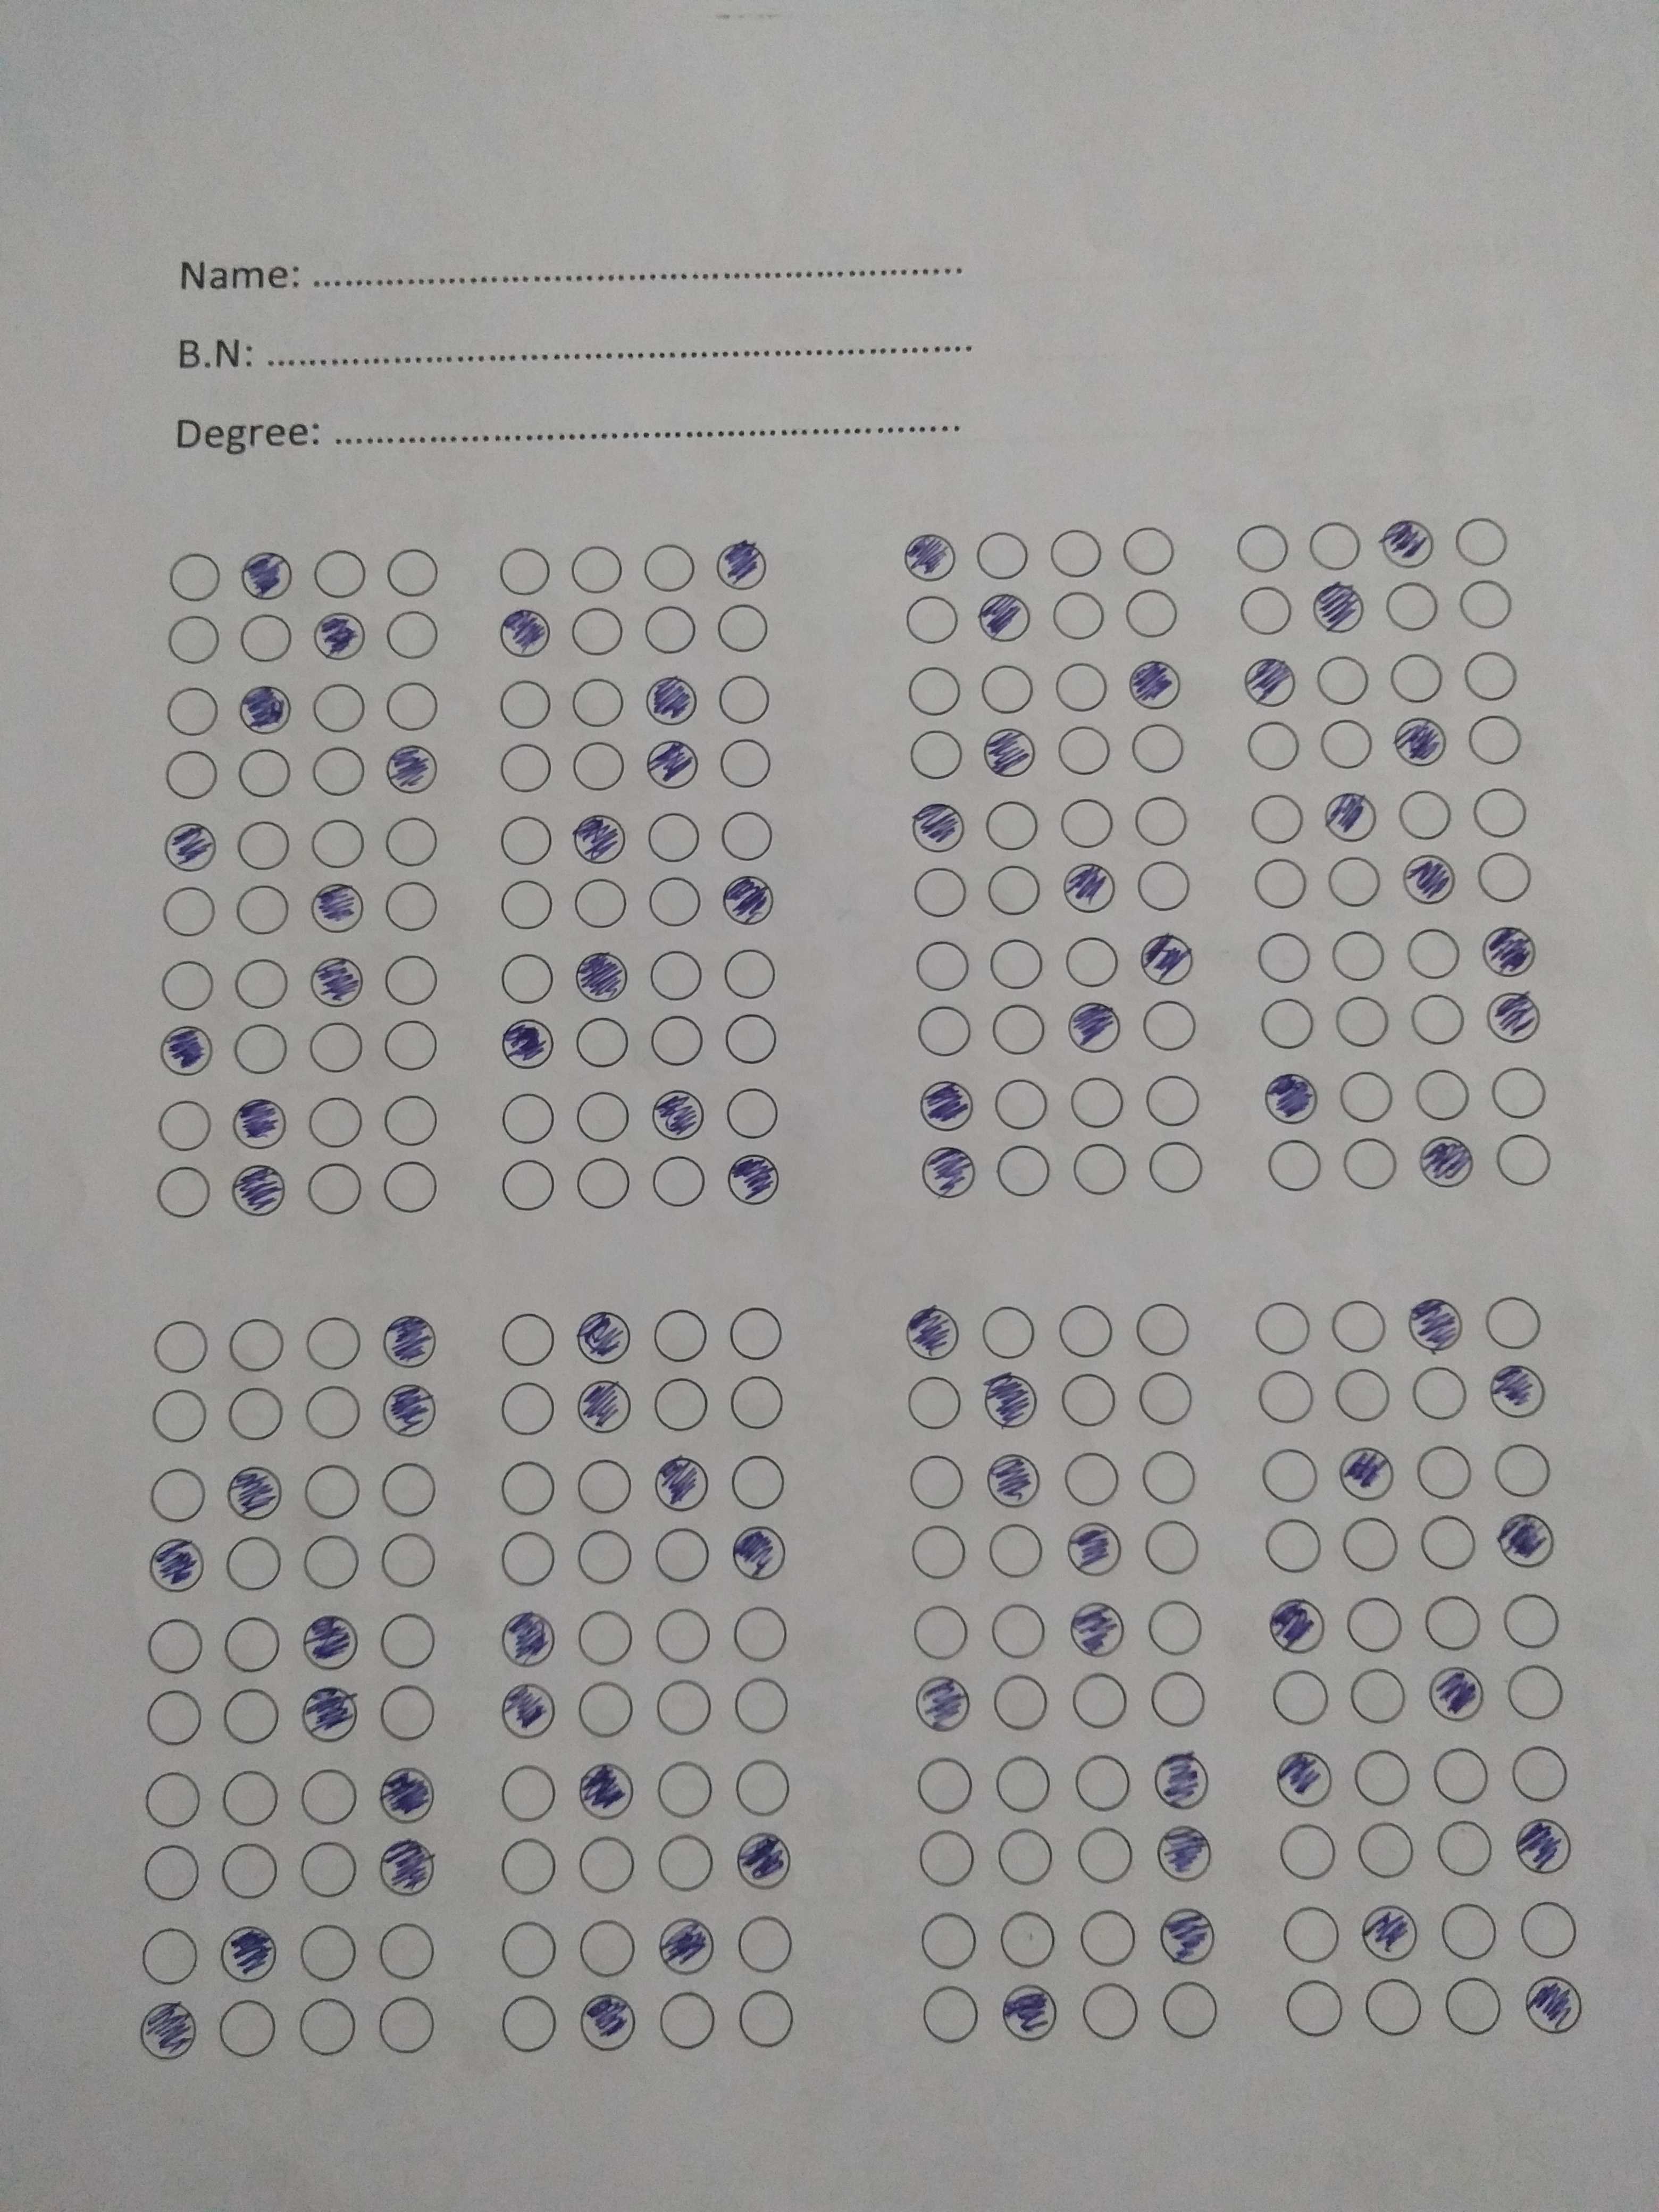not-c: (160, 547, 230, 604), (1159, 1980, 1222, 2040), (296, 1996, 359, 2055), (298, 1838, 361, 1897), (141, 1841, 204, 1900), (300, 1768, 362, 1827), (727, 1454, 789, 1514), (650, 1606, 713, 1665), (570, 1456, 633, 1515), (652, 1306, 714, 1366), (498, 1838, 561, 1897), (732, 1757, 795, 1817), (652, 1761, 714, 1820), (497, 1764, 559, 1824), (573, 1681, 636, 1740), (976, 1303, 1039, 1362), (732, 1989, 795, 2048), (498, 1991, 561, 2050), (575, 1919, 638, 1979), (500, 1923, 563, 1982), (1138, 1447, 1201, 1507), (1060, 1447, 1122, 1507), (915, 1829, 978, 1888), (990, 1754, 1053, 1813), (988, 1672, 1051, 1731), (376, 1994, 437, 2054), (376, 1921, 437, 1980), (732, 1676, 793, 1735), (653, 1679, 714, 1738), (655, 1991, 716, 2050), (734, 1914, 795, 1973), (986, 1522, 1047, 1581), (908, 1451, 969, 1510), (1073, 1825, 1134, 1885), (993, 1825, 1054, 1885), (1073, 1752, 1134, 1811), (495, 1312, 558, 1369), (216, 2000, 279, 2057), (296, 1925, 359, 1982), (139, 1771, 202, 1829), (376, 1683, 439, 1740), (727, 1606, 789, 1663), (497, 1458, 559, 1515), (725, 1372, 788, 1430), (650, 1374, 713, 1432), (497, 1379, 559, 1437), (723, 1305, 786, 1362), (573, 1836, 636, 1893), (653, 1836, 716, 1893), (1140, 1517, 1202, 1575), (986, 1602, 1049, 1660), (908, 1522, 971, 1580), (1056, 1371, 1119, 1428), (903, 1374, 965, 1432), (1131, 1298, 1194, 1355), (1054, 1301, 1117, 1359), (995, 1911, 1058, 1968), (911, 1757, 974, 1815), (1070, 1672, 1133, 1730), (1143, 1601, 1206, 1658), (139, 1928, 200, 1986), (221, 1843, 282, 1900), (218, 1770, 279, 1827), (577, 1609, 638, 1667), (650, 1526, 711, 1583), (575, 1526, 636, 1583), (498, 1531, 559, 1588), (910, 1602, 971, 1660), (1134, 1367, 1195, 1425), (918, 1911, 979, 1968), (1148, 1670, 1209, 1728), (1082, 1982, 1143, 2040), (920, 1984, 981, 2041), (1075, 1911, 1136, 1968), (380, 545, 446, 597), (162, 611, 223, 667), (378, 878, 439, 934), (230, 883, 291, 939), (159, 881, 220, 937), (382, 813, 443, 869), (305, 819, 366, 874), (232, 817, 293, 873), (307, 744, 368, 799), (162, 745, 223, 801), (160, 683, 221, 738), (382, 606, 443, 662), (493, 545, 554, 601), (305, 1160, 366, 1216), (378, 1092, 439, 1148), (305, 1094, 366, 1150), (565, 676, 626, 732), (711, 599, 772, 655), (565, 606, 626, 662), (720, 1010, 781, 1066), (647, 1014, 708, 1069), (645, 949, 706, 1005), (497, 949, 558, 1005), (647, 1155, 708, 1211), (223, 1618, 284, 1674), (223, 1534, 284, 1590), (148, 1467, 209, 1522), (303, 1385, 364, 1440), (225, 1386, 286, 1442), (225, 1317, 286, 1372), (1054, 723, 1115, 779), (1127, 725, 1188, 780), (1053, 658, 1114, 714), (979, 662, 1040, 718), (1394, 787, 1455, 843), (1243, 716, 1303, 772), (1319, 718, 1380, 773), (1464, 650, 1525, 705), (1314, 651, 1375, 707), (1378, 577, 1439, 632), (1450, 510, 1511, 566), (910, 864, 971, 920), (979, 798, 1040, 853), (1127, 792, 1188, 848), (1328, 927, 1389, 982), (1335, 1069, 1396, 1125), (1488, 1066, 1549, 1122), (1493, 1130, 1554, 1186), (986, 1001, 1047, 1057), (1061, 932, 1122, 988), (1328, 1299, 1389, 1355), (1413, 1444, 1474, 1500), (1492, 1442, 1553, 1498), (1419, 1515, 1480, 1571), (1347, 1667, 1408, 1723), (1431, 1749, 1492, 1804), (1277, 1824, 1338, 1879), (1356, 1824, 1417, 1879), (305, 545, 368, 599), (382, 953, 441, 1008), (157, 958, 216, 1014), (378, 679, 437, 735), (308, 679, 368, 735), (235, 610, 295, 665), (572, 876, 631, 932), (568, 543, 627, 599), (305, 1019, 364, 1075), (230, 1022, 289, 1078), (497, 876, 556, 932), (495, 813, 554, 869), (713, 735, 772, 791), (497, 738, 556, 794), (493, 678, 552, 733), (641, 540, 701, 596), (572, 1157, 631, 1212), (497, 1157, 556, 1212), (572, 1089, 631, 1144), (500, 1090, 559, 1146), (645, 873, 704, 928), (145, 1691, 204, 1747), (378, 1613, 437, 1669), (378, 1533, 437, 1588), (303, 1534, 362, 1590), (378, 1463, 437, 1519), (300, 1465, 359, 1521), (150, 1388, 209, 1444), (152, 1318, 211, 1374), (904, 662, 964, 718), (1121, 519, 1180, 575), (1046, 524, 1105, 580), (1246, 789, 1305, 845), (1467, 711, 1527, 766), (1389, 650, 1448, 705), (1236, 585, 1295, 641), (1455, 577, 1514, 632), (1303, 517, 1363, 573), (1232, 521, 1291, 577), (908, 726, 967, 782), (1471, 784, 1530, 840), (1474, 850, 1534, 906), (1253, 855, 1312, 911), (1253, 930, 1312, 986), (1403, 927, 1462, 982), (1408, 991, 1467, 1047), (1335, 995, 1394, 1050), (1258, 998, 1317, 1054), (1342, 1136, 1401, 1191), (1265, 1137, 1324, 1193), (1072, 1141, 1131, 1197), (995, 1143, 1054, 1198), (1066, 1073, 1126, 1129), (1138, 996, 1197, 1052), (917, 1003, 976, 1059), (913, 939, 972, 995), (986, 941, 1046, 996), (1253, 1299, 1312, 1355), (1485, 1296, 1544, 1352), (1333, 1369, 1392, 1425), (1256, 1369, 1316, 1425), (1263, 1517, 1323, 1573), (1422, 1594, 1481, 1649), (1345, 1597, 1405, 1653), (1502, 1594, 1561, 1649), (1504, 1665, 1563, 1721), (1351, 1749, 1410, 1804), (1270, 1670, 1330, 1726), (1436, 1822, 1495, 1878), (1283, 1907, 1342, 1963), (1284, 1980, 1344, 2036), (1366, 1980, 1425, 2036), (1443, 1979, 1502, 2034), (235, 745, 296, 799), (382, 1160, 443, 1214), (152, 1165, 213, 1219), (716, 812, 777, 866), (714, 671, 775, 725), (640, 603, 701, 657), (721, 1087, 782, 1141), (568, 1014, 629, 1068), (716, 948, 777, 1001), (901, 594, 962, 648), (1124, 585, 1185, 639), (1047, 587, 1108, 641), (981, 860, 1042, 914), (1258, 1449, 1319, 1503), (1342, 1517, 1403, 1571), (1262, 1517, 1323, 1571), (1509, 1747, 1570, 1801), (1439, 1904, 1500, 1958), (230, 958, 289, 1012), (157, 1097, 216, 1151), (380, 1017, 439, 1071), (643, 808, 702, 862), (570, 740, 629, 794), (220, 1689, 279, 1743), (145, 1620, 204, 1674), (303, 1317, 362, 1371), (972, 528, 1032, 582), (1133, 859, 1192, 913), (1056, 796, 1115, 850), (1326, 855, 1385, 909), (1412, 1069, 1471, 1123), (1147, 1139, 1206, 1193), (992, 1078, 1051, 1132), (1143, 1075, 1202, 1129), (1410, 1369, 1469, 1423), (1518, 1904, 1577, 1958)
taken-c: (1272, 1749, 1333, 1811), (1513, 1817, 1574, 1878), (1157, 1905, 1216, 1968), (1523, 1975, 1586, 2034), (577, 1991, 636, 2052), (655, 1918, 716, 1977), (498, 1609, 558, 1670), (999, 1982, 1058, 2043), (1154, 1752, 1213, 1813), (1495, 1512, 1556, 1571), (1358, 1902, 1419, 1961), (221, 1923, 279, 1986), (1265, 1597, 1328, 1655), (138, 2001, 197, 2060), (577, 1763, 636, 1822), (981, 1371, 1040, 1430), (1155, 1824, 1213, 1885), (913, 1674, 971, 1735), (1065, 1519, 1122, 1580), (300, 1613, 357, 1672), (735, 1831, 793, 1890), (500, 1683, 558, 1742), (730, 1524, 788, 1583), (653, 1454, 711, 1514), (1068, 1601, 1126, 1660), (1405, 1296, 1464, 1353), (1427, 1665, 1486, 1723), (301, 1686, 359, 1743), (920, 1141, 978, 1198), (1417, 1134, 1474, 1191), (307, 880, 366, 935), (148, 1536, 207, 1592), (1337, 1446, 1396, 1501), (915, 1078, 974, 1134), (1136, 932, 1195, 988), (1060, 860, 1119, 916), (1398, 852, 1457, 907), (1480, 923, 1539, 979), (232, 1096, 289, 1151), (380, 1313, 437, 1369), (382, 1381, 439, 1437), (378, 1768, 436, 1824), (380, 1839, 436, 1897), (575, 1310, 631, 1367), (1488, 1364, 1546, 1420), (1066, 1000, 1124, 1055), (227, 1465, 282, 1521), (575, 1378, 631, 1433), (985, 1453, 1040, 1508), (1310, 580, 1366, 636), (1323, 791, 1380, 845), (1263, 1073, 1321, 1127), (648, 1090, 708, 1143), (159, 1024, 214, 1078), (232, 1163, 288, 1217), (502, 1015, 556, 1071), (572, 812, 627, 866), (904, 1305, 958, 1360), (1127, 658, 1183, 712), (1380, 516, 1436, 570), (1392, 714, 1448, 768), (572, 951, 629, 1003), (901, 531, 958, 583), (1241, 657, 1298, 709), (727, 1153, 781, 1207), (721, 873, 775, 927), (312, 610, 368, 662), (164, 820, 220, 873), (308, 956, 364, 1008), (645, 674, 701, 726), (910, 801, 965, 853), (1485, 991, 1540, 1043), (239, 683, 293, 735), (976, 592, 1032, 643), (240, 549, 293, 601), (387, 742, 439, 794), (714, 540, 767, 592), (983, 728, 1037, 779), (497, 608, 552, 657), (647, 740, 701, 789)
